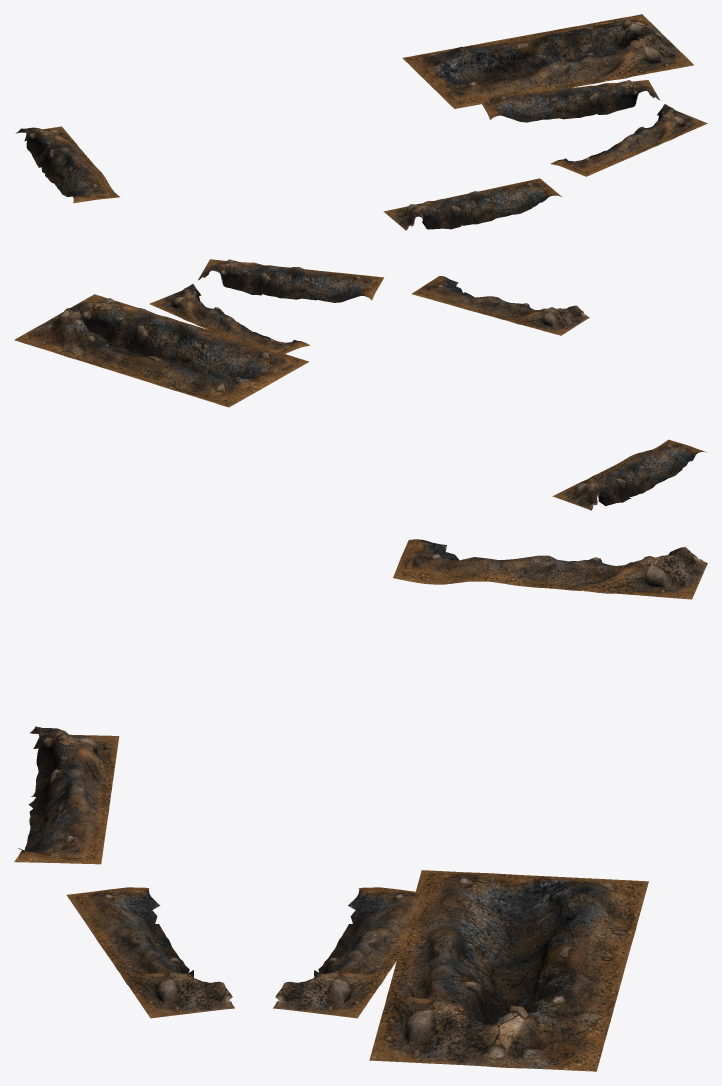
File: crash_grooves.dae
3 views of the same model, one above another, from view 1: azimuth 30°, elevation 25°; view 2: azimuth 150°, elevation 25°; view 3: azimuth 270°, elevation 25° (orthographic). The views are drawn at different scales.
Parts seen in each view (by area): view 1: crash_groove, crash_groove1, crash_groove3, crash_groove4, crash_groove2; view 2: crash_groove, crash_groove2, crash_groove4, crash_groove3, crash_groove1; view 3: crash_groove, crash_groove3, crash_groove4, crash_groove2, crash_groove1.
Boxes of the visible parts, <box> form: crash_groove: <box>402,14,693,108</box>; crash_groove1: <box>482,80,660,122</box>; crash_groove3: <box>383,178,561,230</box>; crash_groove4: <box>15,126,120,203</box>; crash_groove2: <box>550,104,707,176</box>; crash_groove: <box>14,294,308,407</box>; crash_groove2: <box>198,259,384,302</box>; crash_groove4: <box>552,439,706,510</box>; crash_groove3: <box>412,276,589,335</box>; crash_groove1: <box>149,284,310,353</box>; crash_groove: <box>369,870,648,1071</box>; crash_groove3: <box>14,726,119,864</box>; crash_groove4: <box>393,539,707,599</box>; crash_groove2: <box>66,887,234,1018</box>; crash_groove1: <box>273,887,428,1018</box>.
Size of the model in its own units: 124 by 69.15 by 6.87.
1 material, 1 textured.
